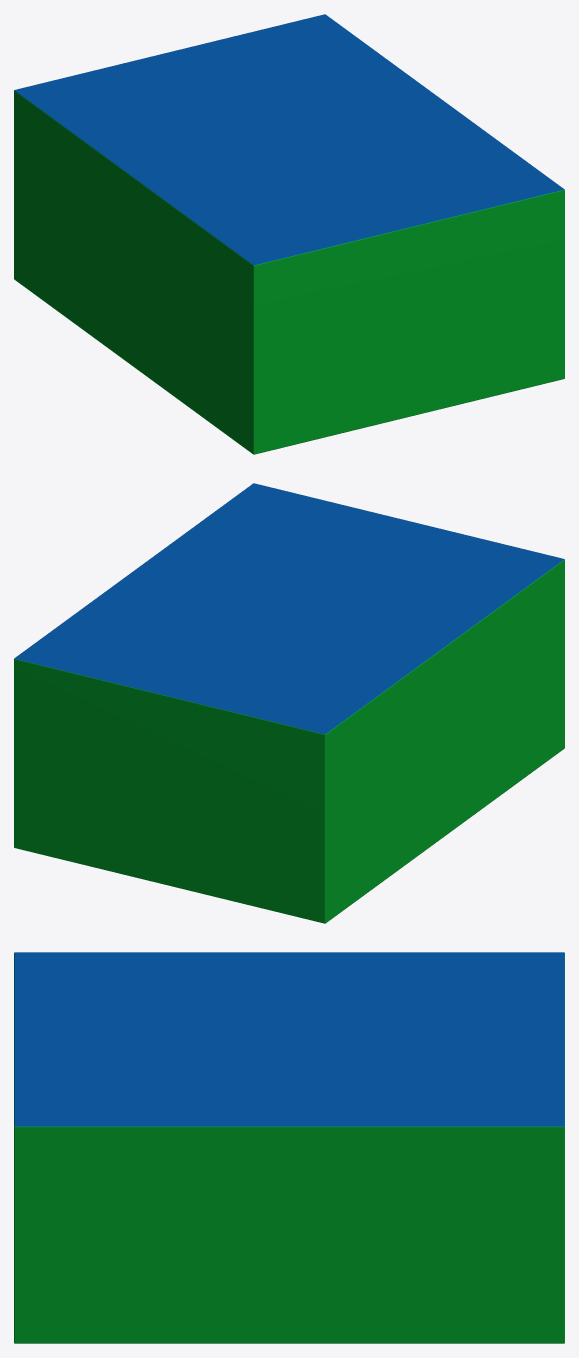
File: SM_sheets_1.fbx
3 renders of one model, top to bottom at view 1: azimuth 30°, elevation 25°; view 2: azimuth 150°, elevation 25°; view 3: azimuth 270°, elevation 25°, orthographic. The views are drawn at different scales.
Parts seen in each view (by area): view 1: SM_sheets_1; view 2: SM_sheets_1; view 3: SM_sheets_1.
Boxes of the visible parts, x1,y1,x2,y2 form: SM_sheets_1: (14, 14, 564, 454); SM_sheets_1: (14, 483, 564, 923); SM_sheets_1: (14, 952, 564, 1343).
Bounding box in the file's own units: 0.54 × 0.3141 × 0.72.
